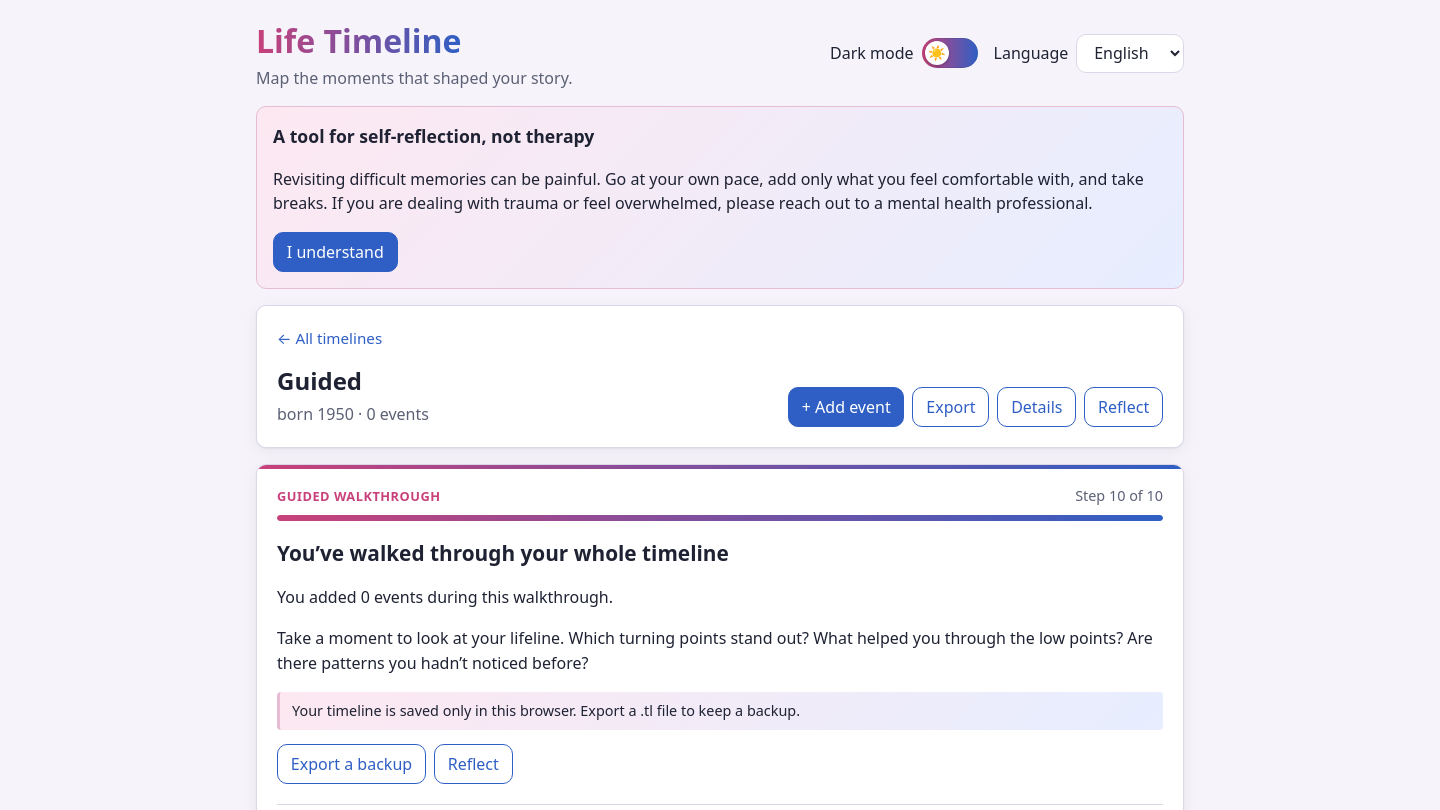
Test: guided walkthrough › survives a birth date change that removes steps
The width and height of the screenshot is (1440, 810).
Earlier steps of the test are not shown.
Later steps or results of the test are not shown.
Step 1. Click the button "Details" → {"x": 1037, "y": 407}, box left=997, top=387, right=1076, bottom=427
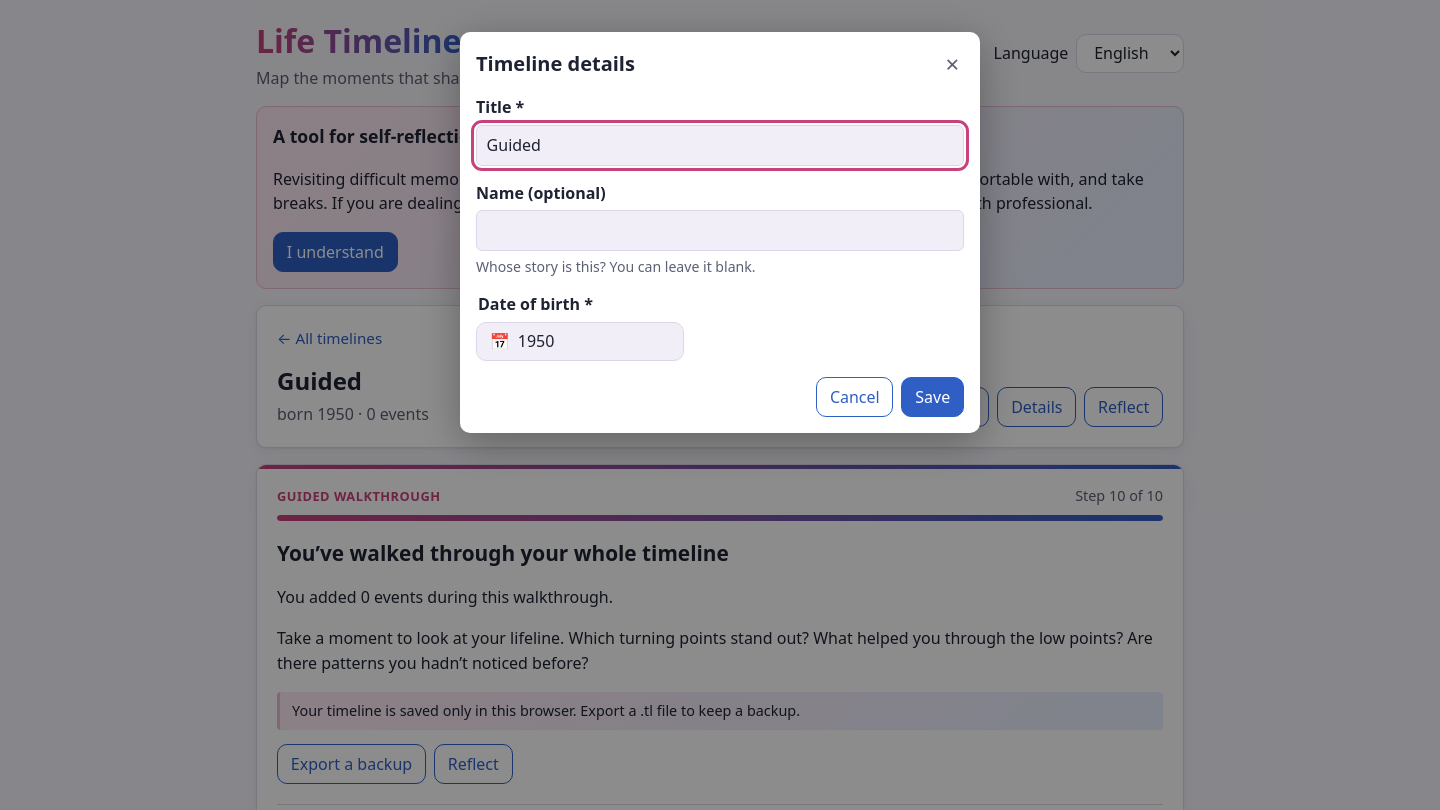
Step 2. Click the button "📅 1950" → {"x": 580, "y": 342}, box left=476, top=322, right=684, bottom=362
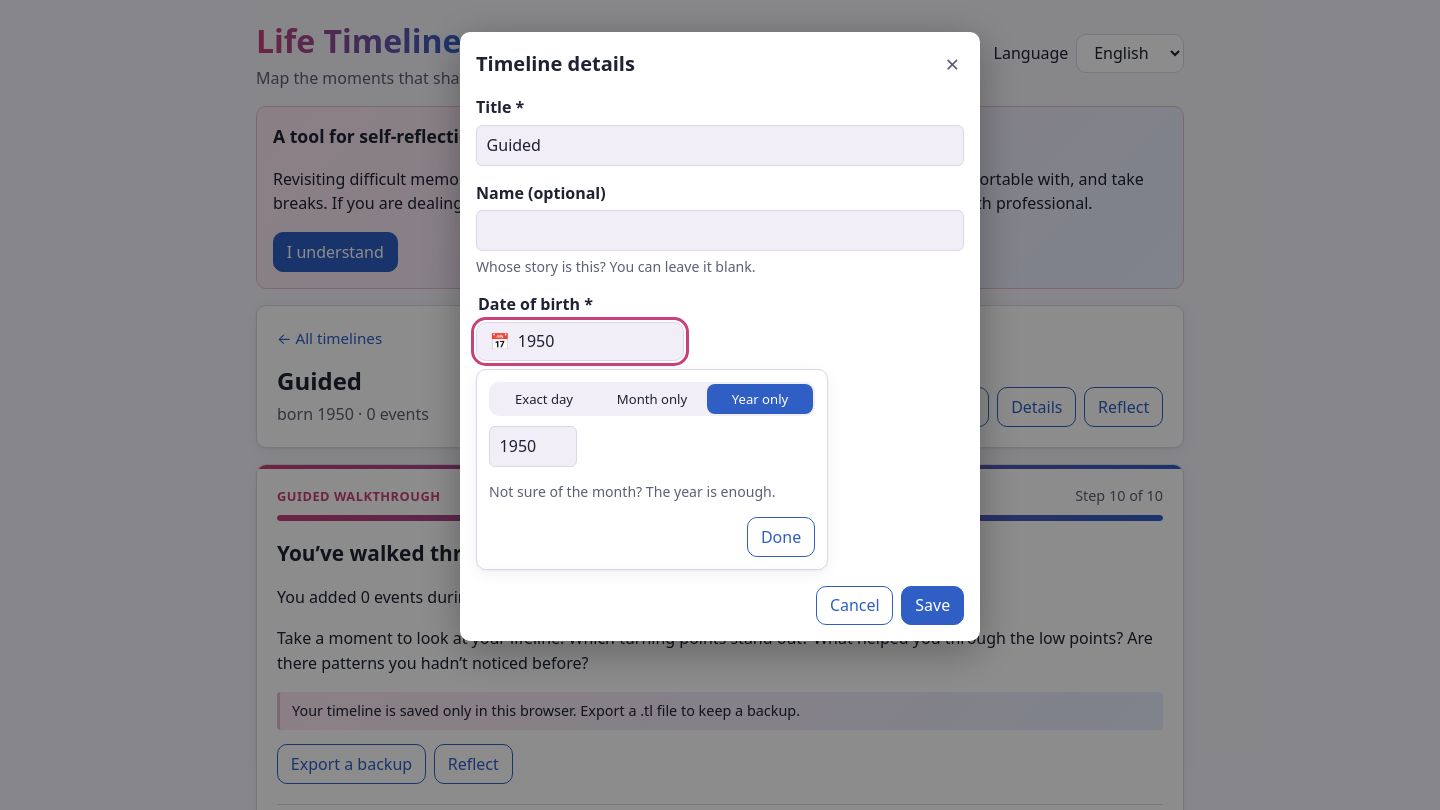
Step 3. Click the radio button labelled "Year only" → {"x": 760, "y": 399}, box left=707, top=384, right=813, bottom=414
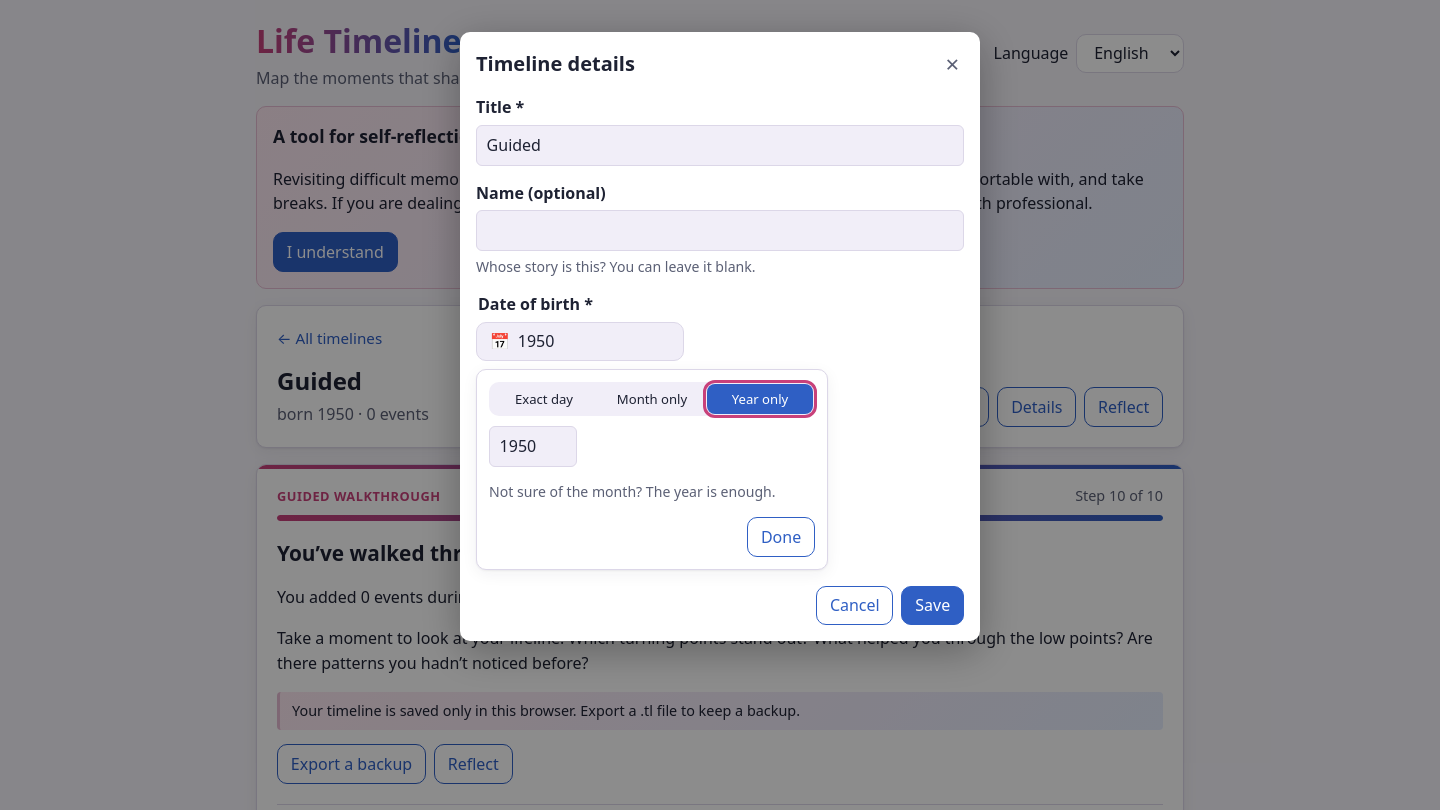
Step 4. Replace the text in the number field named "Year" with "2015" → {"x": 533, "y": 447}, box left=489, top=426, right=577, bottom=467
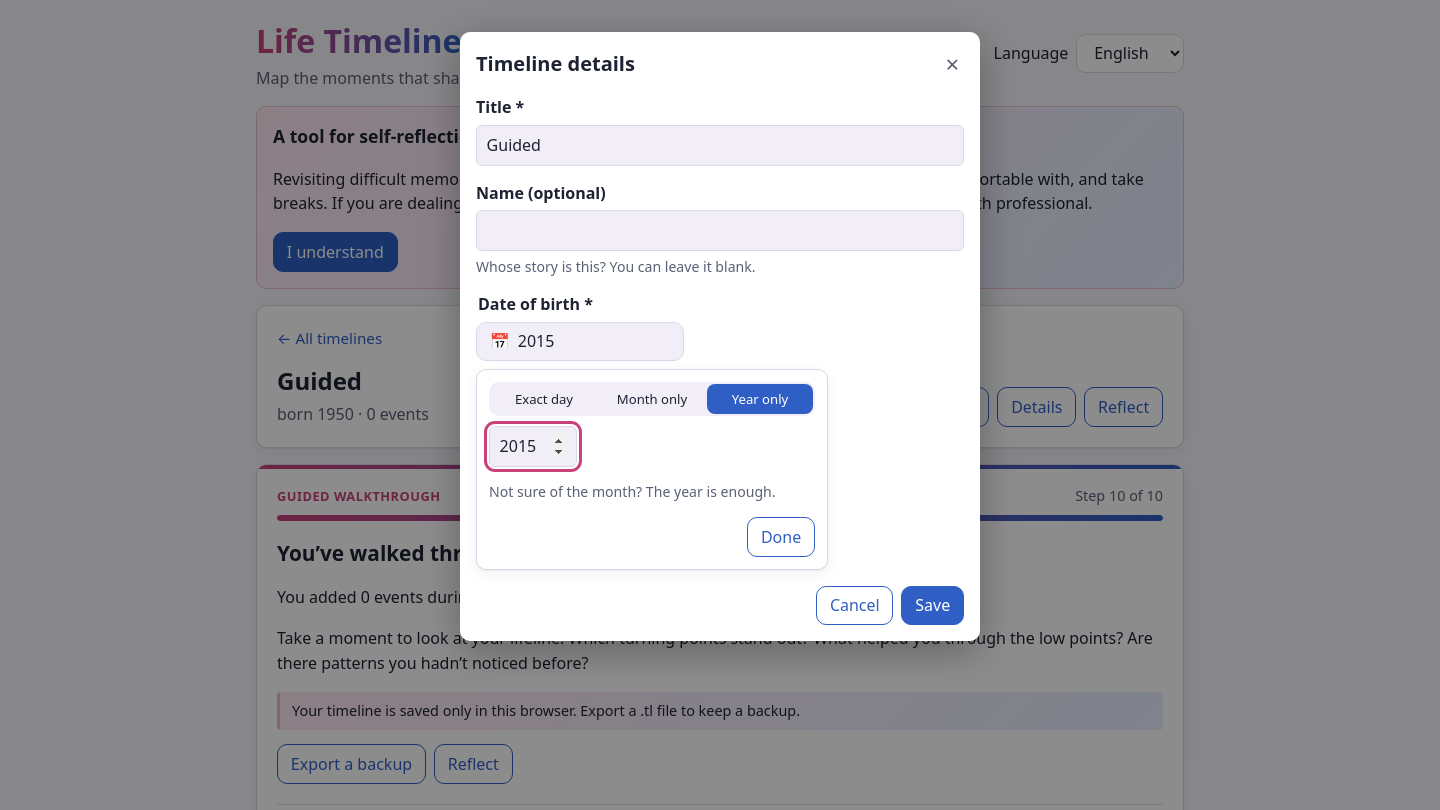
Step 5. Click the button "Done" → {"x": 781, "y": 537}, box left=747, top=517, right=815, bottom=557
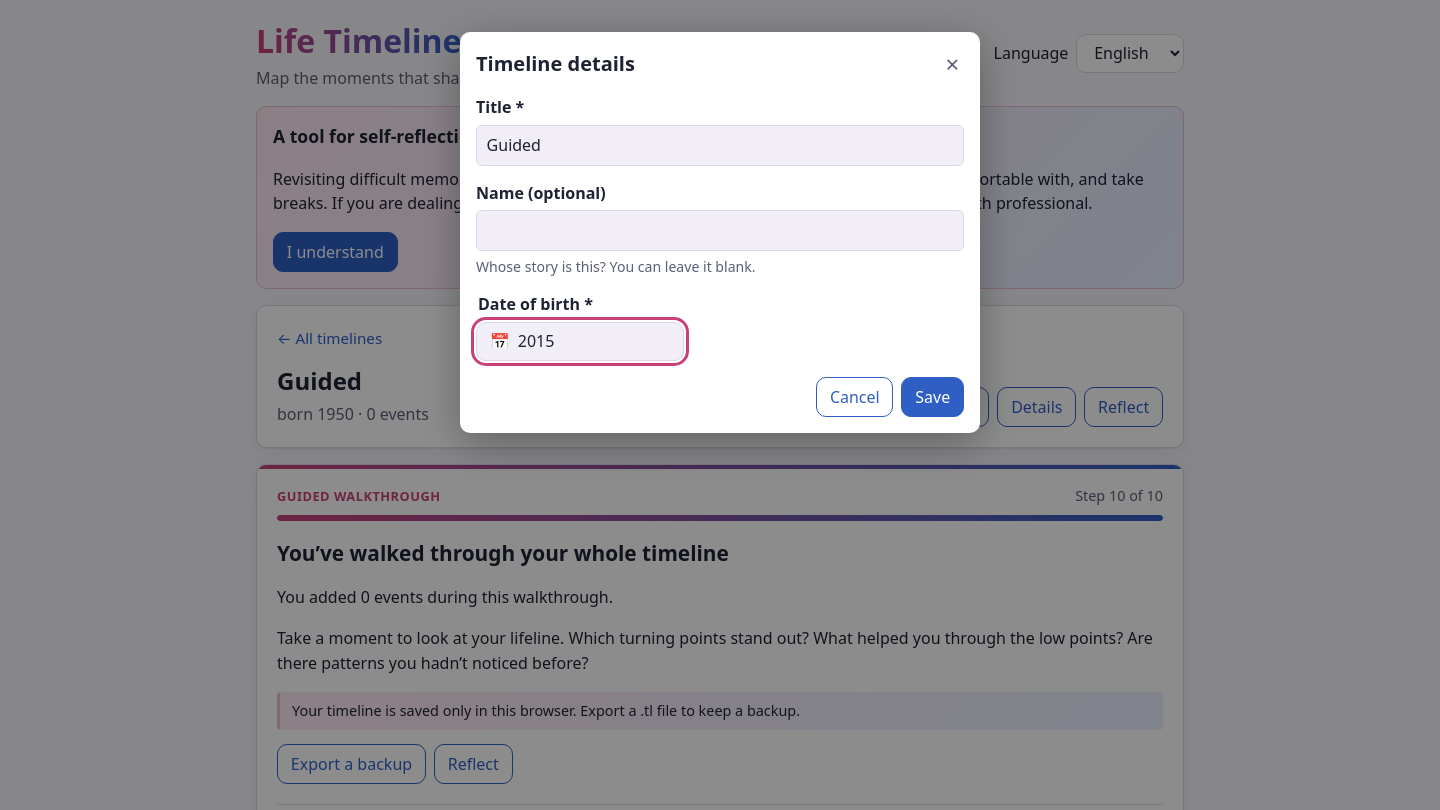
Step 6. Click the button "Save" → {"x": 933, "y": 397}, box left=902, top=378, right=964, bottom=417
(page scrolled)
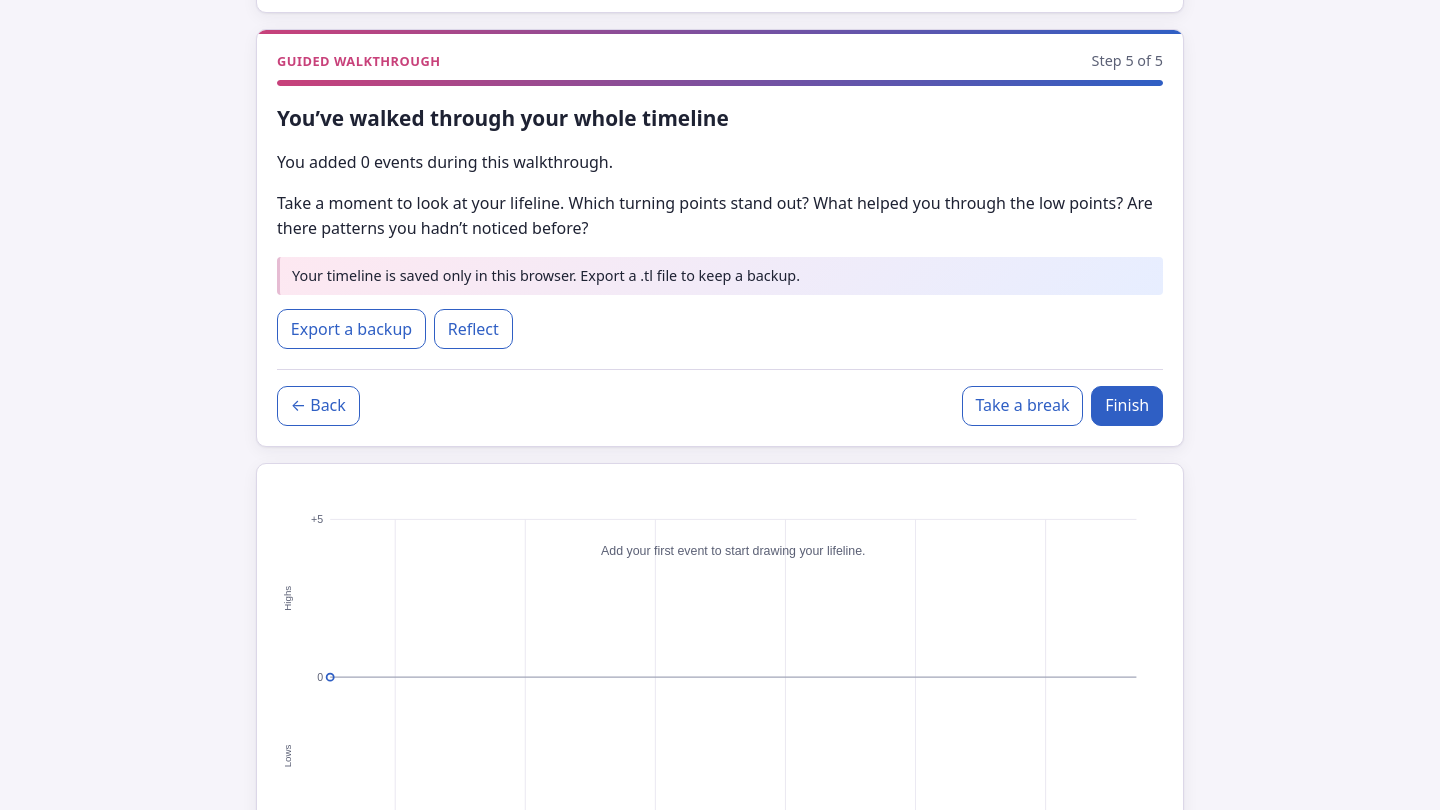
Expected: the heading "You’ve walked through your whole timeline" is shown, left=277, top=104, right=729, bottom=132
